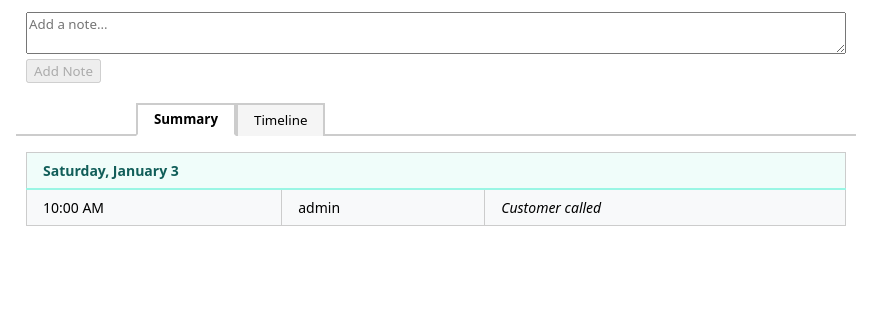
Test: JobHistorySection › renders collated entries with source labels
What coordinates should you click on to do the following:
click the button "Timeline"
I would click on:
 (281, 119)
Its box is [236,103,326,136].
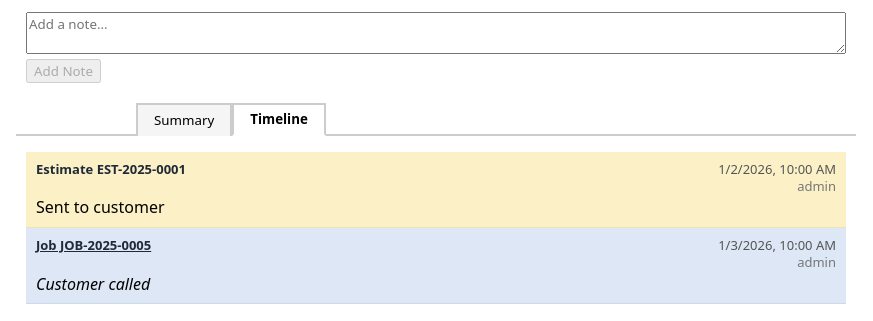
Expected: the text "Customer called" is shown, [36,273,150,295]
Now the text "Estimate EST-2025-0001" is shown, box [36,160,186,178]
Now the text "Sent to customer" is shown, box [36,196,164,218]
